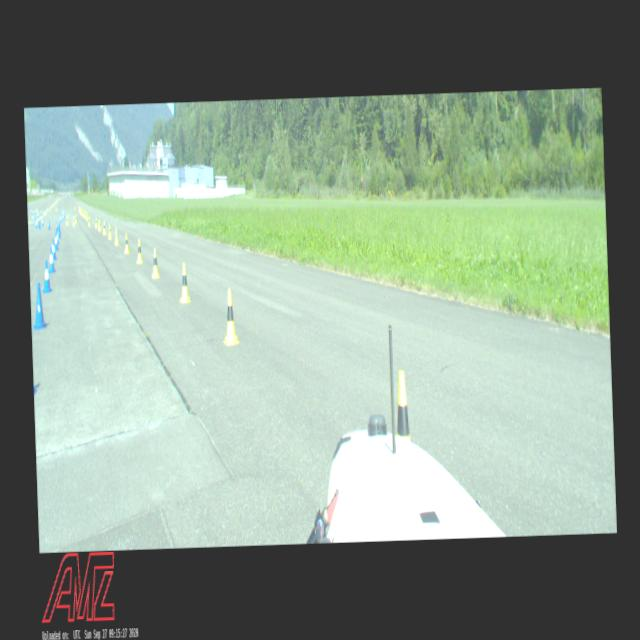blue_cone: (32, 282, 46, 330), (42, 258, 52, 292), (47, 245, 55, 272), (52, 238, 56, 260), (54, 232, 58, 250), (48, 218, 51, 230), (58, 228, 61, 238), (56, 230, 58, 243), (58, 222, 60, 233), (35, 218, 37, 228), (38, 219, 40, 229), (56, 220, 58, 230), (42, 217, 44, 226), (59, 214, 61, 222), (32, 208, 34, 216), (32, 214, 34, 221)
yellow_cone: (394, 371, 410, 442), (222, 288, 240, 346), (178, 262, 190, 302), (150, 248, 160, 278), (136, 238, 142, 264), (123, 232, 129, 252), (114, 227, 118, 244), (102, 221, 106, 234), (108, 224, 111, 240), (94, 217, 98, 228), (72, 215, 75, 226), (98, 219, 100, 230), (88, 216, 90, 225), (86, 212, 88, 220), (66, 216, 68, 224), (84, 210, 86, 218), (74, 214, 76, 222), (82, 210, 84, 217), (85, 211, 86, 218)
